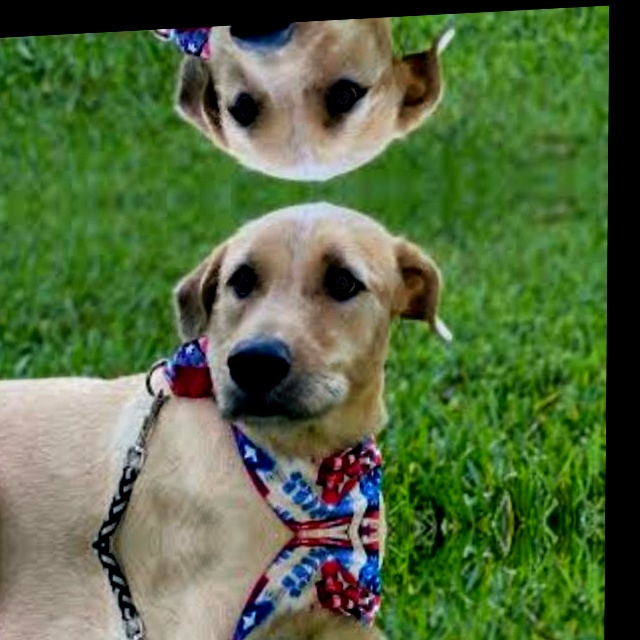dog: (159, 196, 445, 444), (161, 14, 447, 189)
